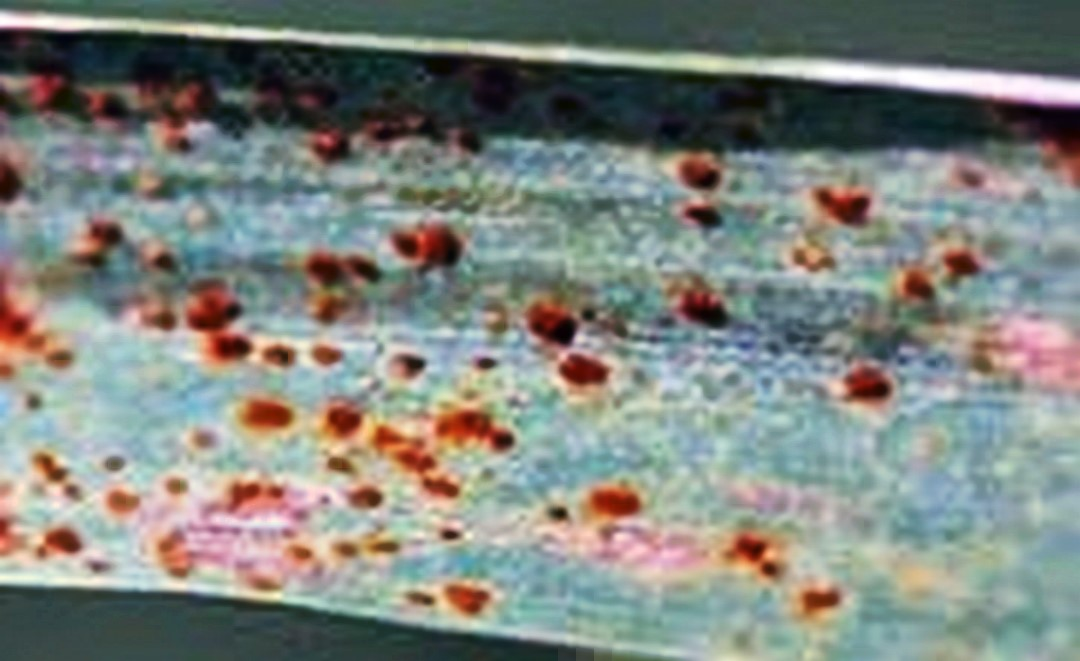Leaf Rust: (23, 74, 728, 640)
